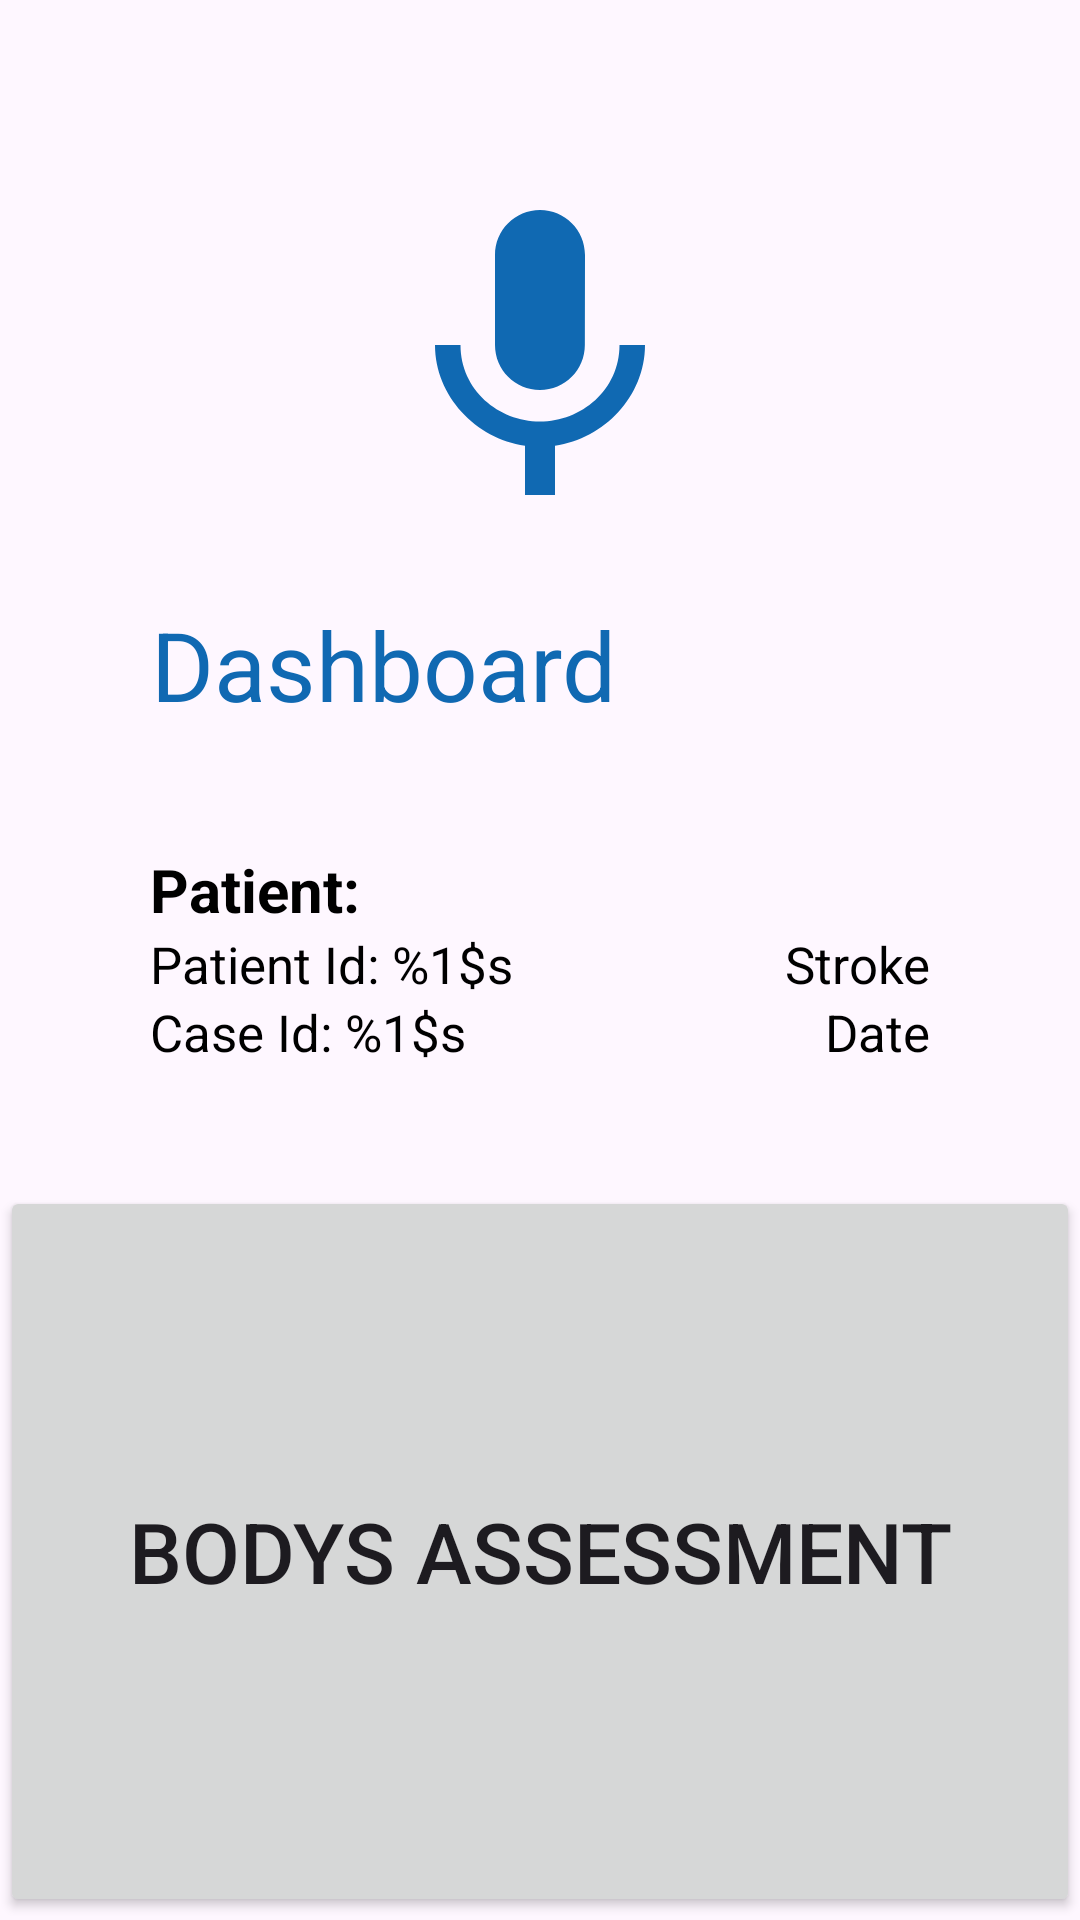

Icons on this 1080px×1920px Android screen, each with its box as box=[x1, y1, x2, y2]:
Microphone image: box=[435, 210, 645, 495]
